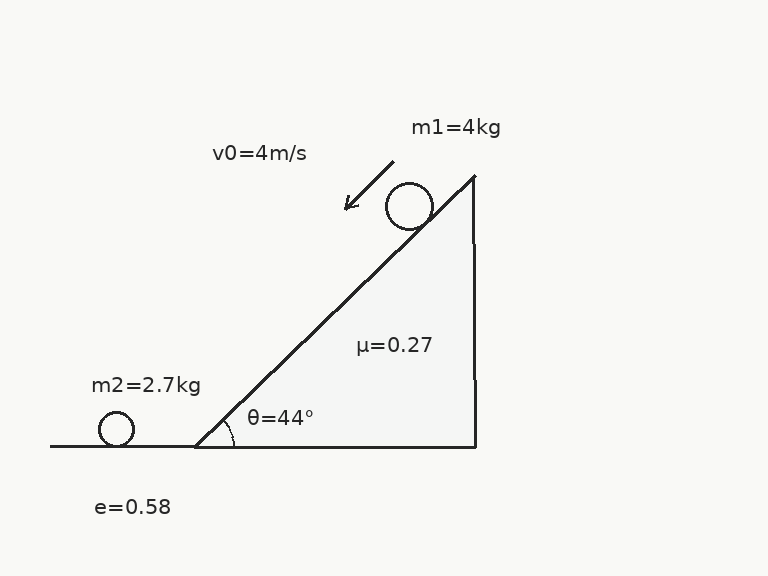ball: (383, 180, 435, 232), (96, 409, 136, 449)
ramp: (192, 174, 477, 449)
